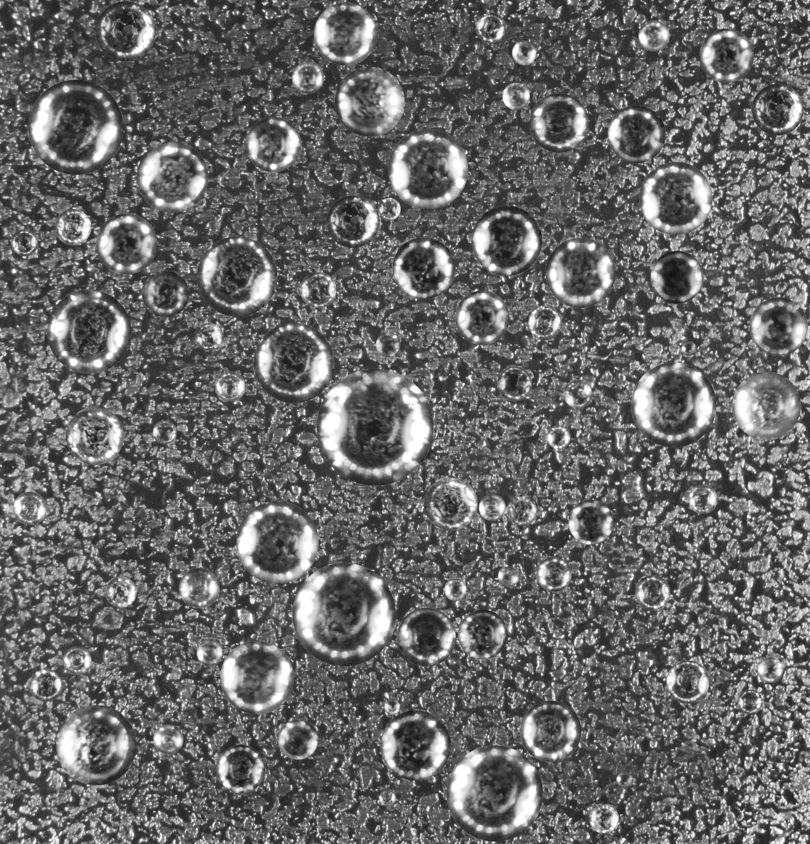Bubble: (316, 368, 433, 485), (292, 563, 395, 666), (446, 745, 542, 841), (28, 79, 123, 174), (631, 362, 716, 447), (47, 289, 131, 373), (236, 501, 318, 583), (253, 322, 334, 403), (56, 705, 136, 785), (388, 129, 468, 209), (197, 236, 277, 316), (639, 161, 712, 234), (220, 641, 293, 714), (136, 141, 208, 212), (471, 205, 542, 275), (334, 66, 404, 136), (545, 237, 615, 307), (380, 710, 450, 780), (732, 371, 800, 440), (314, 2, 376, 65), (392, 237, 454, 299), (520, 700, 581, 761), (96, 213, 156, 274), (95, 1, 155, 61), (529, 93, 588, 152), (397, 607, 455, 666), (607, 105, 665, 163), (749, 297, 807, 355), (65, 407, 123, 464), (245, 116, 300, 171), (455, 290, 509, 344), (699, 28, 753, 82), (424, 477, 477, 530), (650, 250, 703, 303), (326, 195, 379, 247), (752, 83, 803, 135), (458, 609, 507, 659), (216, 745, 265, 793), (142, 270, 188, 317), (568, 499, 613, 544), (666, 660, 709, 703), (179, 567, 219, 608), (278, 719, 318, 759), (55, 209, 91, 245), (300, 272, 336, 307), (635, 575, 670, 610), (497, 366, 532, 401), (536, 556, 571, 591), (528, 306, 562, 340), (13, 491, 46, 525), (29, 669, 61, 701), (292, 61, 323, 93), (105, 576, 136, 607), (638, 20, 669, 51), (507, 494, 538, 525), (214, 371, 245, 401), (153, 724, 183, 754), (475, 12, 505, 42), (589, 803, 618, 833), (688, 484, 717, 513), (563, 379, 592, 408), (62, 646, 91, 675), (194, 322, 222, 350), (502, 82, 529, 109), (11, 229, 37, 256), (196, 639, 222, 665), (479, 494, 505, 520), (758, 657, 783, 682), (738, 689, 762, 714), (375, 332, 400, 356), (512, 40, 536, 64), (152, 420, 176, 444), (546, 425, 570, 449), (378, 197, 400, 220), (444, 578, 466, 600), (498, 566, 518, 587), (379, 789, 396, 806), (616, 772, 632, 788), (384, 699, 400, 714), (681, 341, 696, 355)
